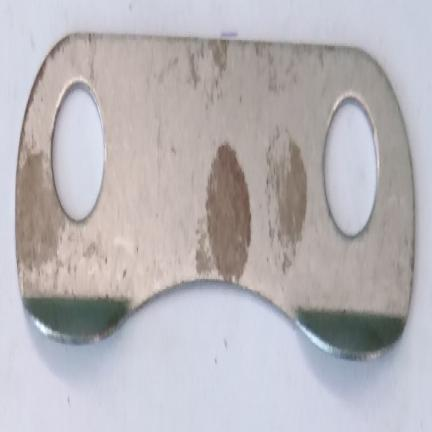karat: (15, 152, 67, 273), (206, 143, 250, 281), (269, 140, 306, 255)
